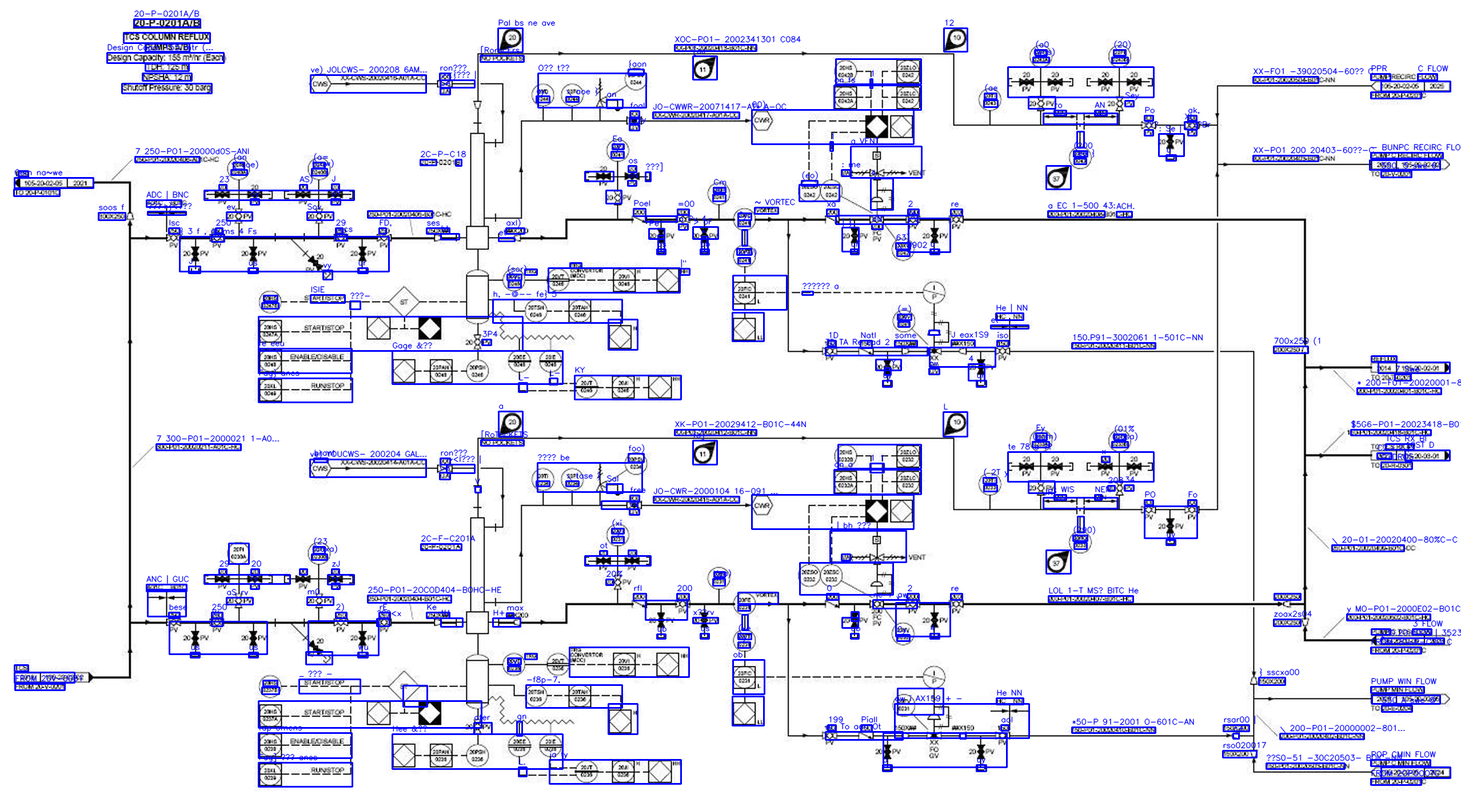Compressor: (530, 467, 556, 492), (561, 467, 585, 492), (471, 99, 485, 111), (473, 483, 484, 495), (433, 232, 444, 243), (1248, 748, 1259, 759), (1300, 344, 1310, 356), (125, 210, 135, 221), (512, 232, 522, 243), (900, 345, 910, 356), (900, 730, 911, 740), (958, 346, 968, 356), (432, 617, 442, 627), (958, 730, 968, 740), (1231, 730, 1241, 740), (1300, 617, 1310, 627), (1250, 675, 1259, 685), (1283, 600, 1292, 609), (513, 619, 522, 627)
Outro: (464, 516, 490, 635), (465, 130, 489, 251), (387, 284, 421, 318), (388, 669, 421, 702), (1027, 42, 1054, 70), (977, 86, 1003, 113), (1067, 144, 1094, 170), (605, 137, 632, 163), (1107, 43, 1133, 69), (606, 324, 632, 350), (654, 651, 680, 677), (538, 733, 564, 759), (560, 81, 585, 108), (365, 316, 392, 341), (646, 375, 673, 400), (1028, 428, 1055, 453), (1106, 428, 1133, 453), (365, 701, 392, 726), (730, 701, 757, 726), (226, 156, 251, 182), (530, 82, 555, 108), (731, 207, 756, 233), (895, 85, 921, 110), (257, 319, 283, 344), (258, 348, 283, 374), (418, 316, 443, 342), (567, 298, 592, 324), (538, 348, 563, 374), (306, 541, 332, 566), (1067, 529, 1092, 555), (417, 700, 442, 726), (391, 742, 416, 768), (465, 742, 490, 768), (545, 651, 570, 677), (732, 591, 757, 617), (706, 180, 730, 207), (306, 72, 334, 95), (307, 156, 332, 181), (833, 86, 858, 111), (732, 316, 757, 341), (507, 349, 532, 374), (977, 472, 1002, 497), (611, 652, 636, 677), (567, 684, 592, 709), (506, 733, 531, 758), (706, 566, 731, 591), (656, 268, 680, 294), (307, 456, 333, 480), (258, 732, 282, 758), (575, 759, 599, 785), (610, 760, 636, 784), (646, 760, 672, 784), (749, 109, 776, 132), (895, 59, 920, 83), (890, 115, 914, 140), (732, 281, 757, 305), (258, 378, 283, 402), (392, 359, 416, 384), (429, 359, 454, 383), (545, 268, 570, 292), (612, 268, 636, 293), (524, 299, 549, 323), (611, 375, 635, 400), (258, 674, 282, 699), (258, 762, 282, 787), (429, 743, 453, 768), (501, 652, 526, 676), (608, 709, 632, 734), (605, 523, 630, 547), (732, 628, 756, 653), (731, 666, 756, 690), (864, 499, 889, 523), (833, 444, 858, 468), (896, 470, 921, 494), (891, 693, 916, 717), (833, 59, 857, 83), (865, 115, 889, 139), (258, 290, 282, 314), (466, 359, 490, 383), (574, 375, 598, 399), (258, 704, 282, 728), (524, 684, 548, 708), (922, 665, 946, 689), (889, 499, 913, 523), (833, 470, 857, 494), (896, 444, 920, 468), (797, 178, 820, 203), (733, 243, 756, 268), (502, 267, 525, 292), (226, 541, 251, 564), (797, 563, 820, 588), (821, 564, 844, 588), (821, 178, 843, 203), (922, 282, 946, 304), (750, 494, 774, 516), (867, 167, 887, 183), (868, 552, 886, 566), (925, 327, 943, 338), (869, 579, 885, 588), (925, 713, 941, 721), (872, 534, 882, 546), (872, 150, 882, 161), (869, 196, 884, 203)
Tanque: (464, 653, 490, 711), (465, 268, 490, 326)
Válvula: (594, 76, 610, 110), (595, 460, 611, 494), (306, 253, 326, 273), (306, 639, 324, 657), (1017, 74, 1036, 89), (629, 212, 649, 226), (1164, 131, 1176, 153), (624, 115, 645, 127), (823, 213, 841, 227), (1139, 118, 1159, 130), (856, 345, 876, 357), (674, 213, 692, 226), (630, 597, 648, 610), (189, 244, 201, 263), (1035, 94, 1047, 113), (1113, 94, 1125, 113), (594, 170, 613, 182), (326, 573, 345, 585), (1045, 460, 1064, 472), (1096, 461, 1115, 473), (1164, 516, 1176, 535), (849, 226, 860, 246), (374, 617, 394, 628), (213, 188, 231, 200), (356, 245, 368, 263), (436, 463, 454, 475), (698, 611, 710, 629), (612, 187, 622, 208), (699, 225, 709, 246), (233, 207, 244, 226), (246, 188, 265, 199), (247, 244, 258, 263), (868, 214, 887, 225), (1139, 505, 1158, 516), (820, 730, 839, 741), (625, 499, 644, 510), (929, 611, 940, 630), (904, 214, 921, 226), (656, 226, 666, 246), (165, 233, 183, 244), (294, 189, 312, 200), (326, 188, 344, 199), (314, 207, 325, 225), (375, 232, 393, 243), (436, 78, 454, 89), (1046, 77, 1064, 88), (1183, 120, 1201, 131), (623, 171, 641, 182), (929, 227, 940, 245), (821, 346, 839, 357), (882, 358, 893, 376), (975, 358, 986, 376), (993, 346, 1011, 357), (246, 573, 264, 584), (294, 573, 312, 584), (314, 592, 325, 610), (358, 629, 369, 647), (1125, 461, 1143, 472), (1183, 504, 1201, 515), (612, 573, 623, 591), (623, 556, 641, 567), (674, 598, 692, 609), (857, 730, 875, 741), (849, 611, 860, 629), (905, 599, 923, 610), (947, 599, 965, 610), (207, 233, 226, 243), (1096, 77, 1115, 87), (234, 592, 244, 611), (924, 731, 943, 741), (332, 232, 349, 243), (1125, 77, 1143, 87), (947, 215, 965, 225), (925, 346, 943, 356), (213, 574, 231, 584), (1115, 479, 1125, 497), (656, 611, 666, 629), (993, 730, 1011, 740), (333, 616, 349, 627), (1019, 461, 1035, 472), (208, 617, 225, 627), (248, 631, 258, 648), (595, 556, 612, 566), (882, 743, 892, 760), (976, 743, 986, 760), (868, 599, 885, 609), (190, 629, 199, 647), (473, 718, 482, 736), (473, 333, 482, 350), (165, 618, 182, 627), (824, 600, 841, 609), (1036, 480, 1045, 496)
